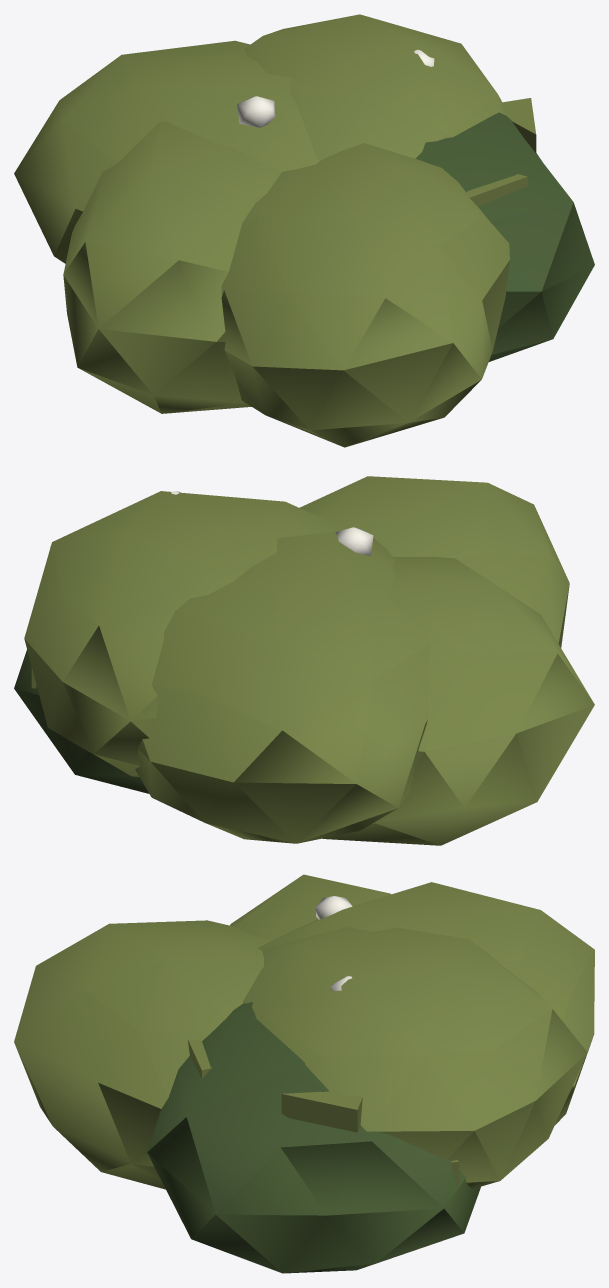
The model's file is foliage_bush_a.glb.
3 renders of one model, top to bottom at view 1: azimuth 30°, elevation 25°; view 2: azimuth 150°, elevation 25°; view 3: azimuth 270°, elevation 25°, orthographic. The views are drawn at different scales.
Visible parts, largest first — view 1: foliage_bush_a_LOD0; view 2: foliage_bush_a_LOD0; view 3: foliage_bush_a_LOD0.
Part boxes in pixels (x1=…): foliage_bush_a_LOD0: x1=14, y1=14, x2=594, y2=447; foliage_bush_a_LOD0: x1=14, y1=476, x2=594, y2=845; foliage_bush_a_LOD0: x1=14, y1=874, x2=594, y2=1273.
Size of what is drawn, in the model's own units: 1.74 by 0.9867 by 1.86.
